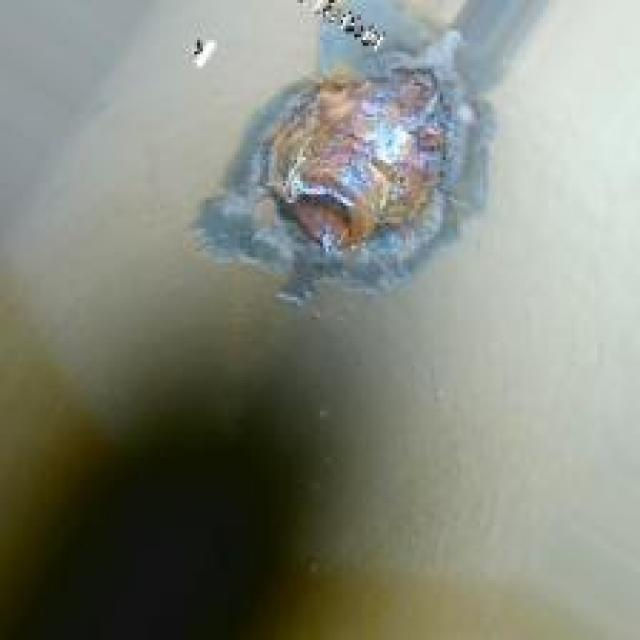ferrule: (246, 60, 468, 263)
